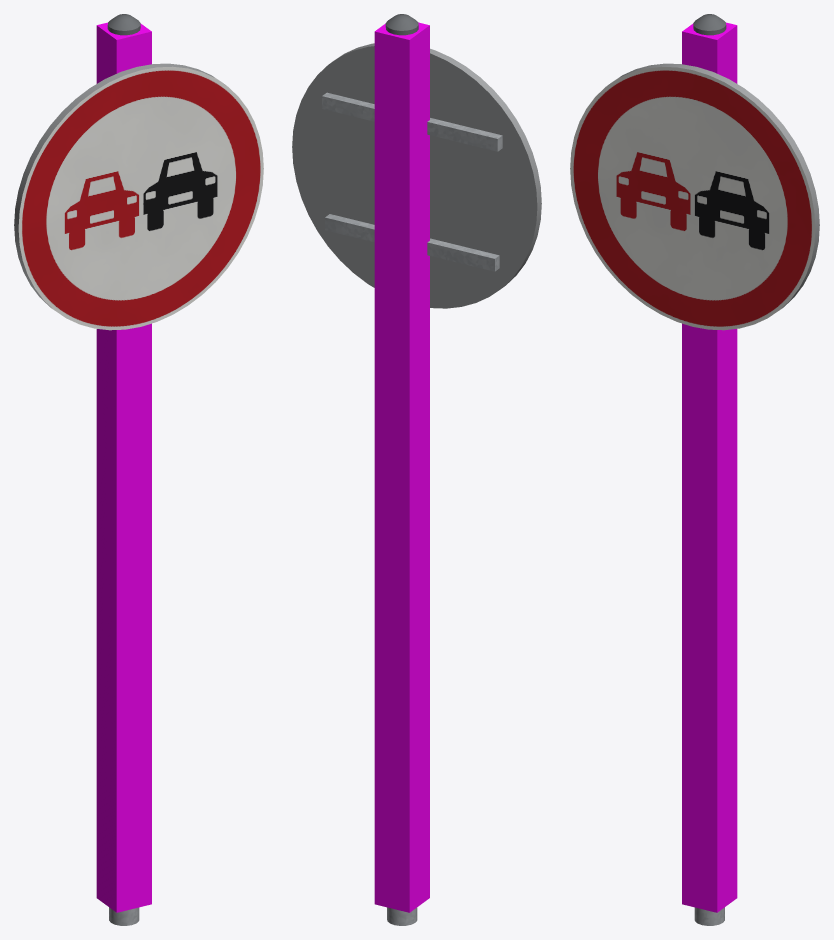
Rendered from EN_Sign_3_20_NoOvertaking.fbx.
3 views of the same model, side by side, from view 1: azimuth 30°, elevation 25°; view 2: azimuth 150°, elevation 25°; view 3: azimuth 330°, elevation 25° (orthographic).
Parts seen in each view (by area): view 1: EN_Sign_3_20_NoOvertaking_Mesh, COL_Post; view 2: COL_Post, EN_Sign_3_20_NoOvertaking_Mesh; view 3: EN_Sign_3_20_NoOvertaking_Mesh, COL_Post.
Boxes of the visible parts, left/top/right/bottom form: EN_Sign_3_20_NoOvertaking_Mesh: left=14, top=14, right=263, bottom=925; COL_Post: left=96, top=22, right=151, bottom=912; COL_Post: left=374, top=22, right=429, bottom=912; EN_Sign_3_20_NoOvertaking_Mesh: left=292, top=14, right=541, bottom=925; EN_Sign_3_20_NoOvertaking_Mesh: left=570, top=14, right=819, bottom=925; COL_Post: left=682, top=22, right=737, bottom=912.
Bounding box in the file's own units: 0.7 × 2.46 × 0.134.
